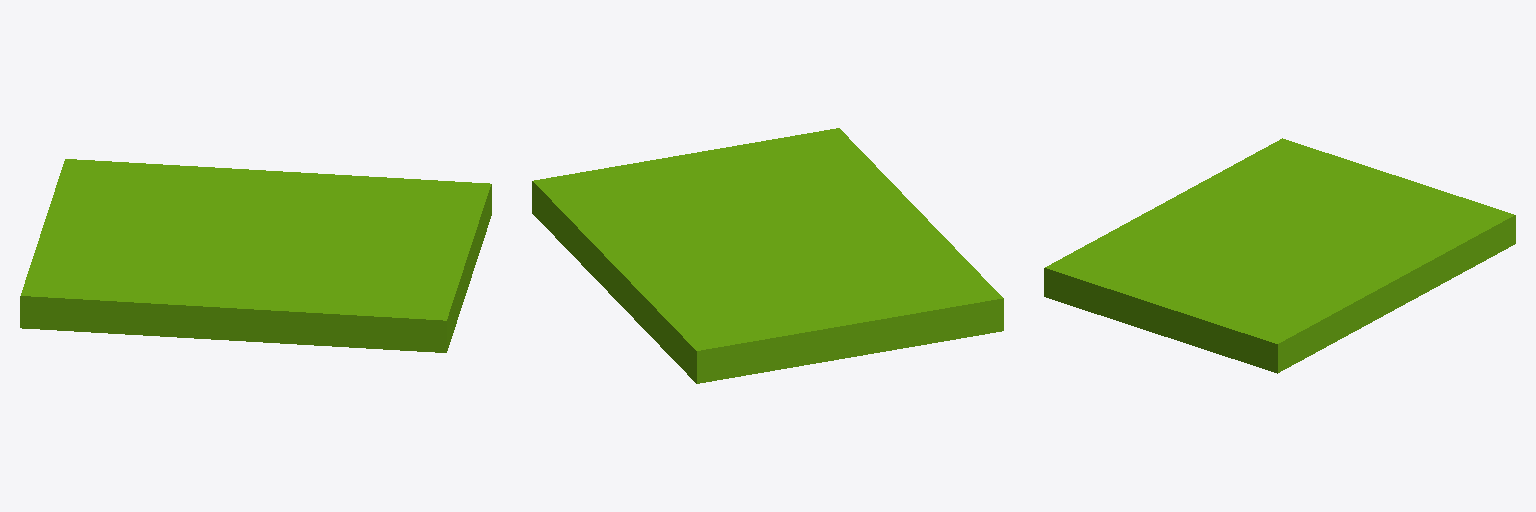
URDF robot description (Interference):
<?xml version="1.0"?>
<robot name="Interference">
  <link name="baseLink">
    <inertial>
      <origin xyz="0.0 0.0 0.0" rpy="0.0 0.0 0.0"/>
      <inertia ixx="0.0" ixy="0.0" ixz="0.0" iyy="0.0" iyz="0.0" izz="0.0"/>
      <mass value="0"/>
    </inertial>
    <visual>
      <origin xyz="0.0 0.0 0.0" rpy="0.0 0.0 -0.6605443413963689"/>
      <geometry>
        <box size="0.12001808180523993 0.09132461544314197 0.01"/>
      </geometry>
      <material name="color">
        <color rgba="0.46623380039664586 0.716669455739033 0.10374669822690374 1.0"/>
      </material>
    </visual>
  </link>
</robot>

--- Render facts (derived) ---
3 views of the same robot in one strip: view 1: azimuth 30°, elevation 25°; view 2: azimuth 150°, elevation 25°; view 3: azimuth 270°, elevation 25° (orthographic).
Model Interference with 1 links and 0 joints (none), rooted at baseLink, posed every joint at zero.
Visible links, largest first — view 1: baseLink; view 2: baseLink; view 3: baseLink.
Link boxes in pixels (left/top/right/bottom): baseLink: left=20, top=159, right=491, bottom=352; baseLink: left=532, top=128, right=1003, bottom=383; baseLink: left=1044, top=138, right=1515, bottom=373.
Size in the robot's own frame: 0.1508 by 0.1458 by 0.01 metres.
Geometry: primitives only (box / cylinder / sphere), no mesh files.